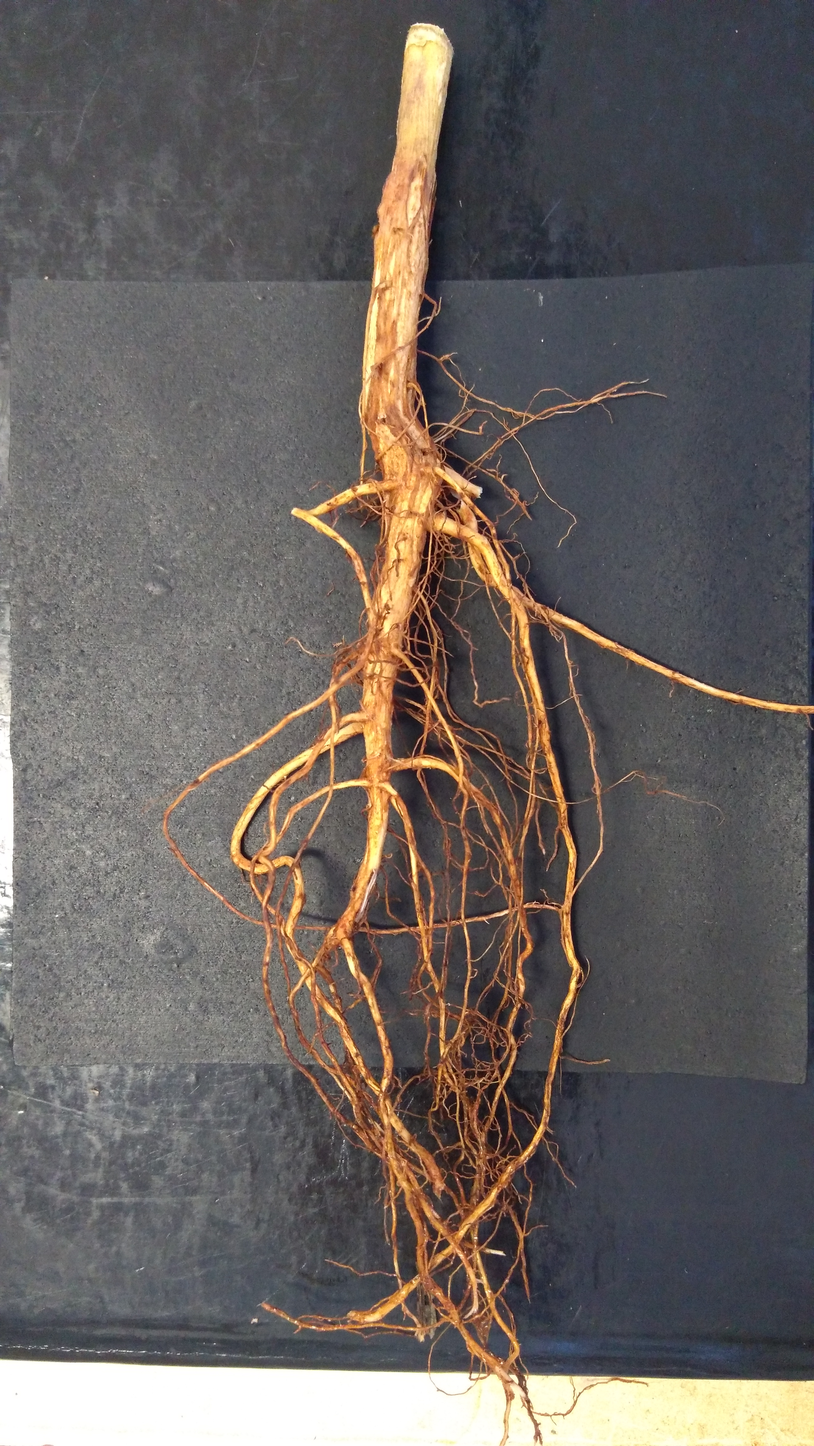nodule: (472, 1312, 491, 1345), (410, 1193, 433, 1210), (314, 952, 331, 967), (355, 1090, 366, 1112), (395, 1171, 408, 1187), (373, 543, 383, 558), (371, 224, 380, 239), (357, 1076, 367, 1088), (351, 1064, 361, 1075), (356, 640, 367, 649), (449, 1085, 457, 1092), (436, 1063, 444, 1070)
